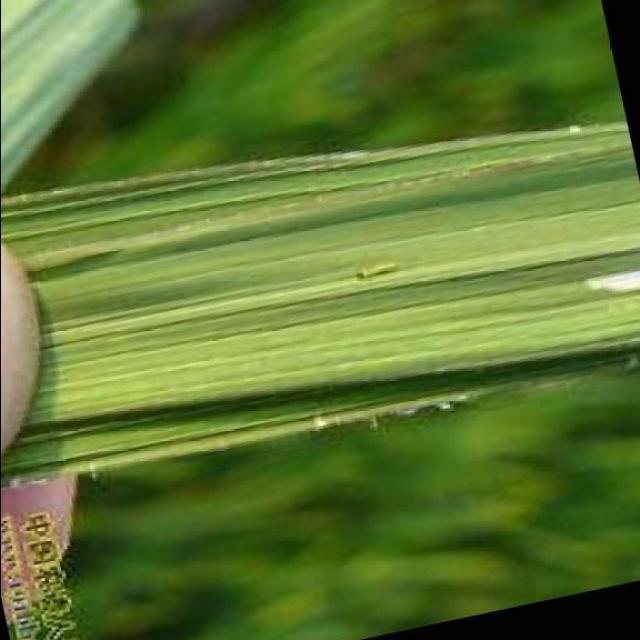leaf folder: (356, 262, 409, 282)
